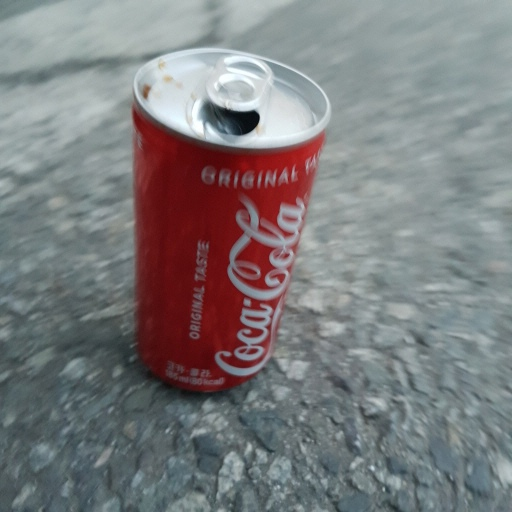Metal_0: (128, 44, 337, 395)
